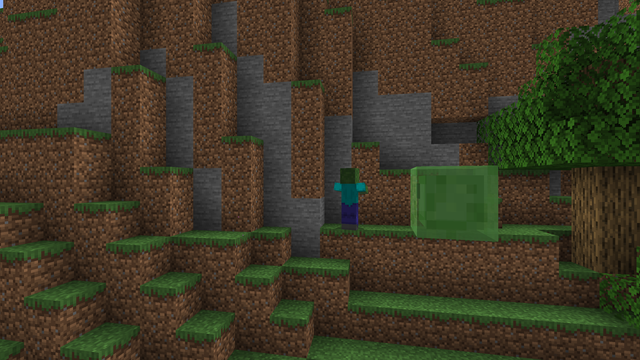slimes: (407, 162, 502, 241)
zombies: (339, 169, 358, 230)
